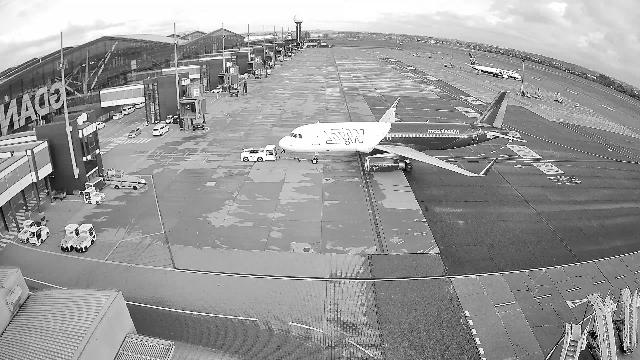Aircraft: (278, 90, 525, 176), (469, 53, 522, 79)
Airport_Tractor: (72, 224, 97, 253), (60, 224, 80, 252), (28, 226, 50, 246), (83, 186, 106, 205), (18, 220, 37, 243)
Baggage_Trolley: (85, 176, 104, 192), (52, 188, 66, 200)
Conveyor_Belt: (105, 170, 147, 190)
Pushback_Tug: (241, 145, 278, 161)
